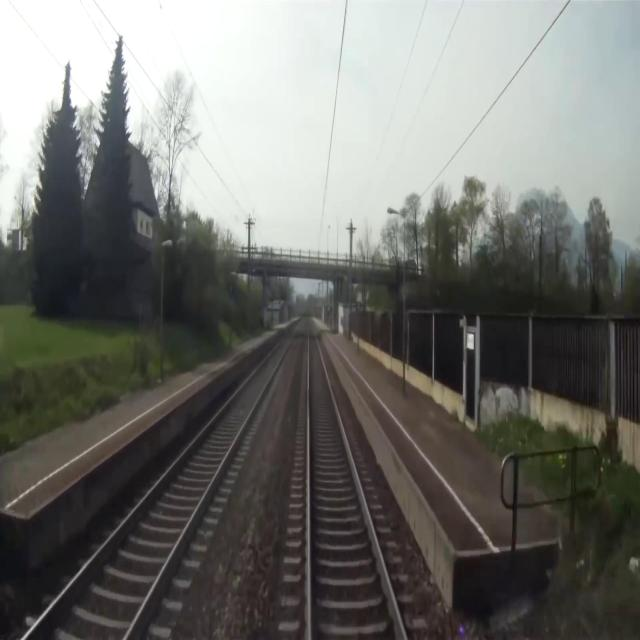rail-track: (27, 323, 298, 639), (310, 320, 402, 639)
